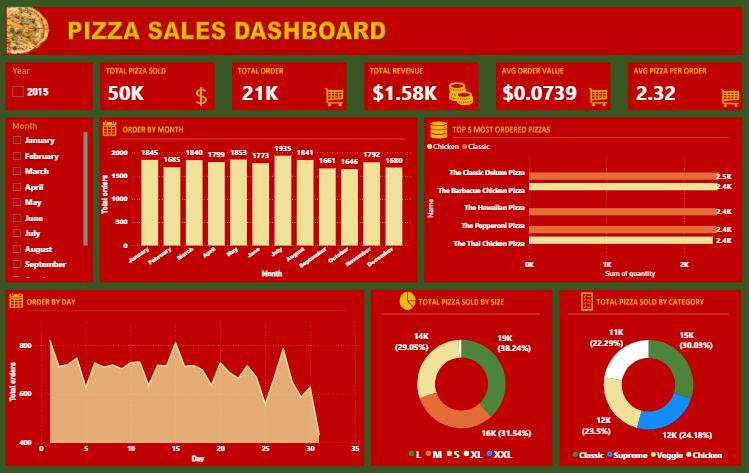

This screenshot's page, from the dashboard's own definition file:
{"tool":"powerbi","page":{"name":"Page 1","canvas":[1500,950],"ordinal":0},"visuals":[{"type":"card","fields":{"Values":["order_details.Total pizzas sold"]},"box":[198,150,110,72],"z":0},{"type":"card","fields":{"Values":["order_details.Total orders"]},"box":[466,150,112,72],"z":1000},{"type":"card","fields":{"Values":["order_details.Average Total value"]},"box":[1000,150,168.3,71.7],"z":2000},{"type":"card","fields":{"Values":["pizzas.Total Revenue"]},"box":[736.7,150,161.7,70],"z":3000},{"type":"card","fields":{"Values":["order_details.Average pizza per order"]},"box":[1264,150,100,72],"z":4000},{"type":"columnChart","fields":{"Y":["order_details.Total orders"],"Category":["orders.order_date.Variation.Date Hierarchy.Month"]},"box":[198,274,630,288],"z":5000},{"type":"lineChart","fields":{"Y":["order_details.Total orders"],"Category":["orders.order_date.Variation.Date Hierarchy.Day"]},"box":[14,630,708,296],"z":6000},{"type":"donutChart","fields":{"Y":["order_details.Total pizzas sold"],"Category":["pizza_types.Category"]},"box":[1126,644,346,282],"z":7000},{"type":"donutChart","fields":{"Y":["Sum(order_details.quantity)"],"Category":["pizzas.size"]},"box":[750,630,350,296],"z":8000},{"type":"slicer","fields":{"Values":["orders.order_date.Variation.Date Hierarchy.Year"]},"box":[14,128,184,94],"z":9000},{"type":"slicer","fields":{"Values":["orders.order_date.Variation.Date Hierarchy.Month"]},"box":[14,238,168,324],"z":10000},{"type":"clusteredBarChart","fields":{"Category":["pizza_types.Name"],"Series":["pizza_types.Category"],"Y":["Sum(order_details.quantity)"]},"box":[850,274,636,288],"z":11000},{"type":"slicer","fields":{"Values":["pizza_types.Category"]},"box":[1258,36,212,60],"z":12000}]}

Visuals, with their boxes in screenshot pixels (x1, y1, x2, y2), scaled from the page's 1500x950 canvas onto the 749x473 screenshot:
card - order_details.Total pizzas sold: bbox(99, 75, 154, 111)
card - order_details.Total orders: bbox(233, 75, 289, 111)
card - order_details.Average Total value: bbox(499, 75, 583, 110)
card - pizzas.Total Revenue: bbox(368, 75, 449, 110)
card - order_details.Average pizza per order: bbox(631, 75, 681, 111)
columnChart - order_details.Total orders x orders.order_date.Variation.Date Hierarchy.Month: bbox(99, 136, 413, 280)
lineChart - order_details.Total orders x orders.order_date.Variation.Date Hierarchy.Day: bbox(7, 314, 361, 461)
donutChart - order_details.Total pizzas sold x pizza_types.Category: bbox(562, 321, 735, 461)
donutChart - Sum(order_details.quantity) x pizzas.size: bbox(374, 314, 549, 461)
slicer - orders.order_date.Variation.Date Hierarchy.Year: bbox(7, 64, 99, 111)
slicer - orders.order_date.Variation.Date Hierarchy.Month: bbox(7, 118, 91, 280)
clusteredBarChart - pizza_types.Name x pizza_types.Category: bbox(424, 136, 742, 280)
slicer - pizza_types.Category: bbox(628, 18, 734, 48)
